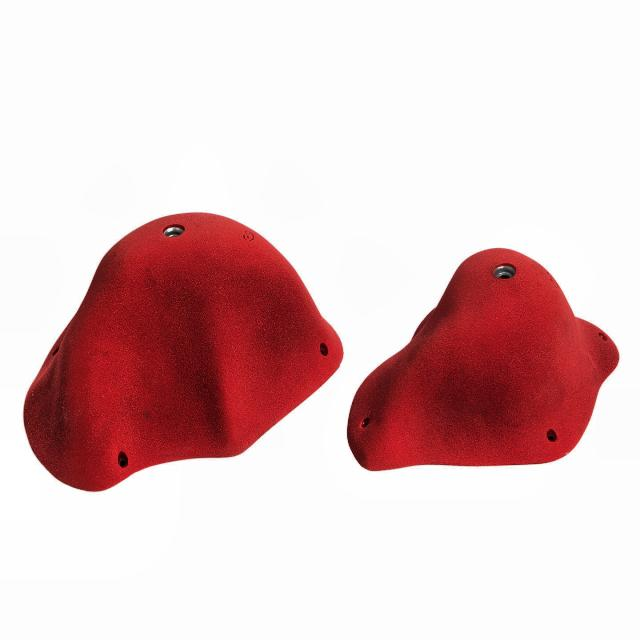Hold: (22, 206, 342, 502), (345, 246, 619, 477)
